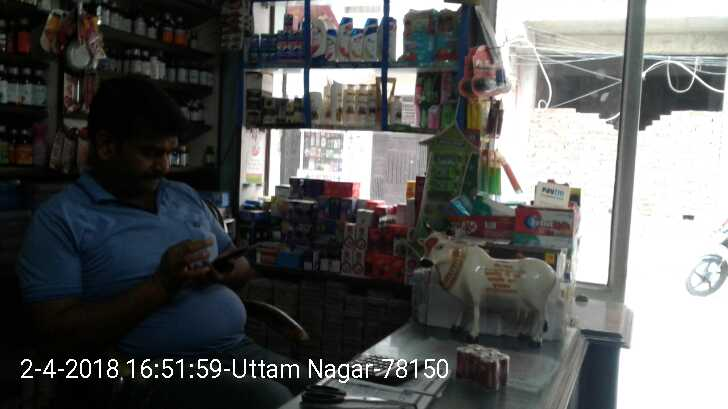vicks: (249, 30, 304, 59)
